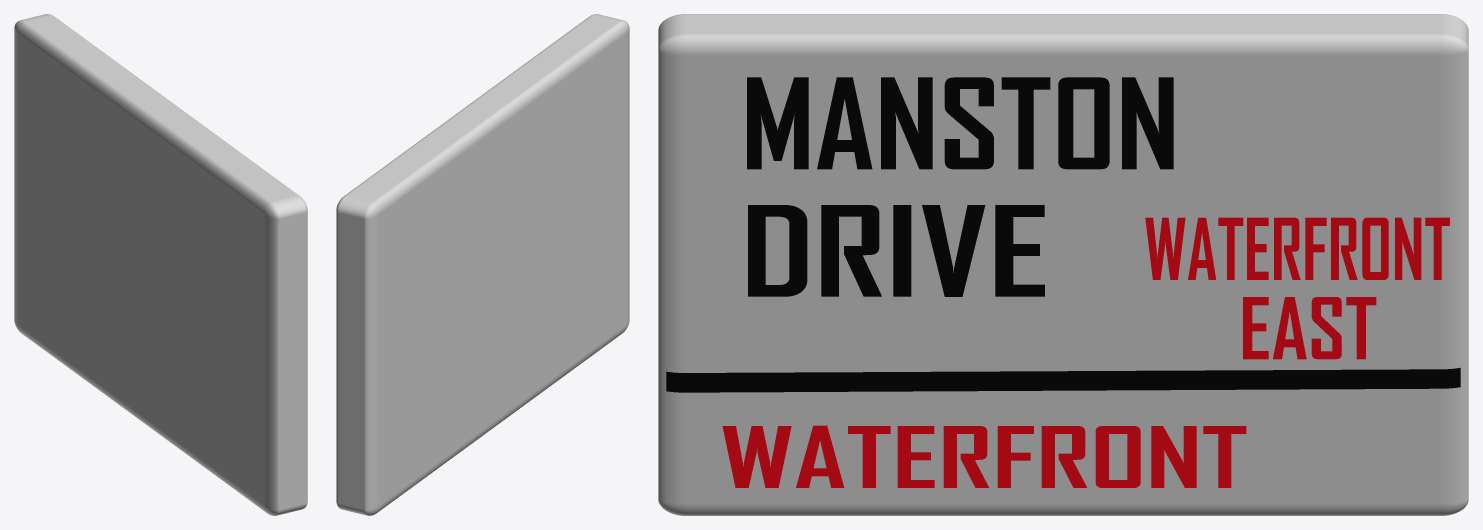
Rendered from uk_styled_street_sign_50.fbx.
The picture shows the model from 3 angles, left to right: view 1: azimuth 30°, elevation 25°; view 2: azimuth 150°, elevation 25°; view 3: azimuth 270°, elevation 25°; orthographic projection. The views are drawn at different scales.
Parts seen in each view (by area): view 1: Cube; view 2: Cube; view 3: Cube, Text, Text.002, Text.001, Text.003, Text.004.
Boxes of the visible parts, box(x1,y1,x2,y2) form: Cube: box(14, 14, 307, 515); Cube: box(336, 14, 629, 515); Cube: box(658, 14, 1468, 515); Text: box(747, 77, 1173, 169); Text.002: box(722, 425, 1246, 487); Text.001: box(748, 205, 1044, 296); Text.003: box(1145, 217, 1449, 279); Text.004: box(1243, 297, 1376, 359).
Bounding box in the file's own units: 1.63 × 11.91 × 18.18.
